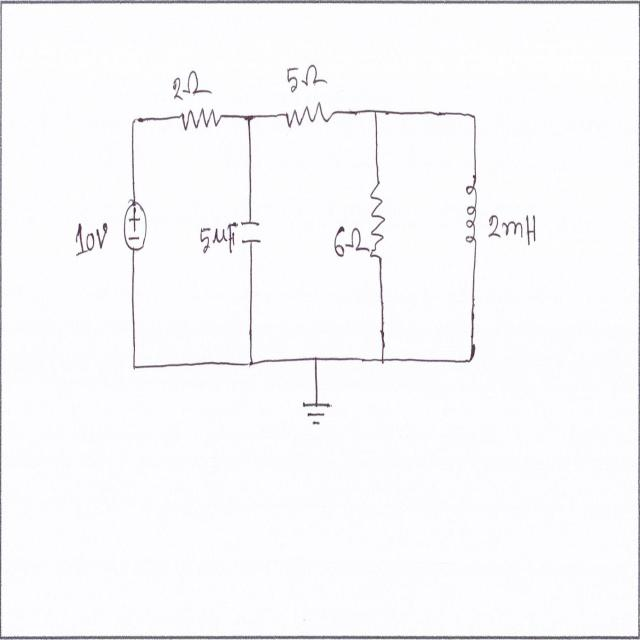capacitor: (240, 206, 263, 250)
ground: (298, 395, 336, 429)
inductor: (466, 175, 482, 262)
resistor: (368, 177, 392, 268), (284, 98, 333, 136), (178, 104, 221, 138)
voltage_source: (121, 198, 151, 255)
